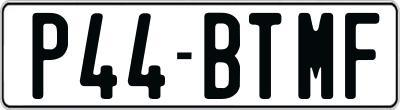4: (80, 10, 121, 96), (125, 11, 163, 99)
B: (202, 10, 239, 98)
F: (343, 13, 383, 102)
M: (298, 13, 339, 100)
P: (32, 13, 68, 101)
T: (248, 10, 283, 102)
